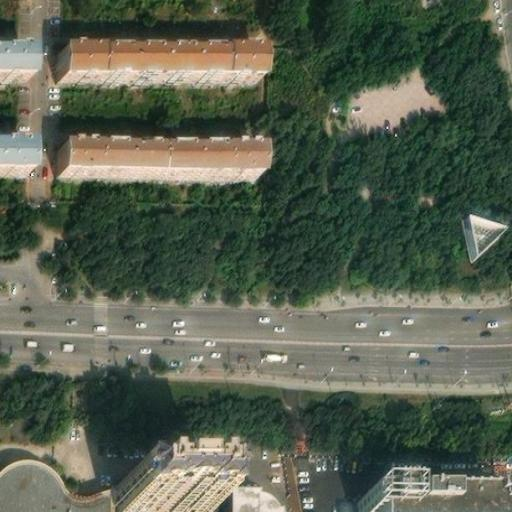building: (0, 452, 119, 512), (65, 139, 263, 173), (68, 44, 265, 76), (374, 483, 502, 512), (119, 478, 211, 510), (463, 211, 509, 264), (229, 481, 287, 512), (0, 141, 31, 171), (0, 45, 31, 74)
